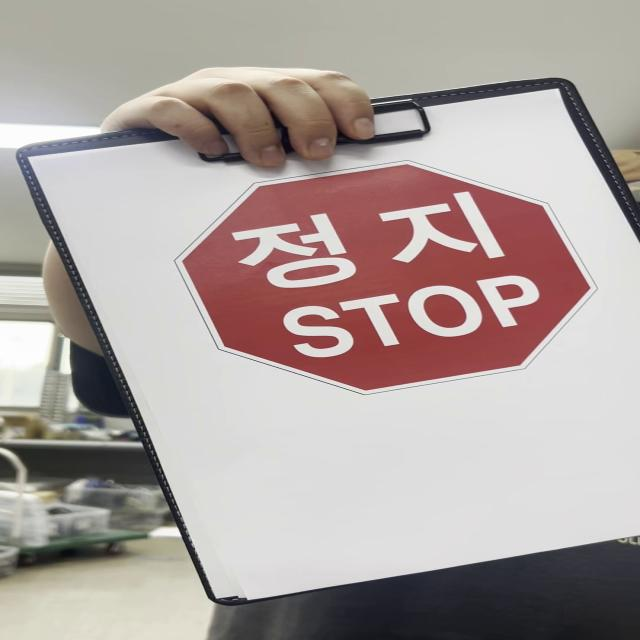stop: (174, 159, 600, 401)
